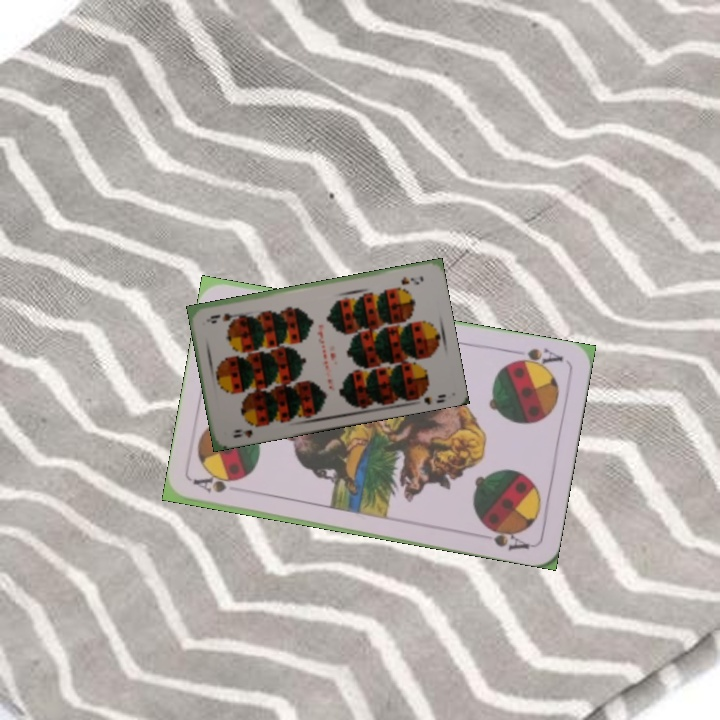S9: (229, 419, 265, 441), (397, 272, 426, 287)
SA: (506, 344, 566, 372), (190, 472, 240, 496)
